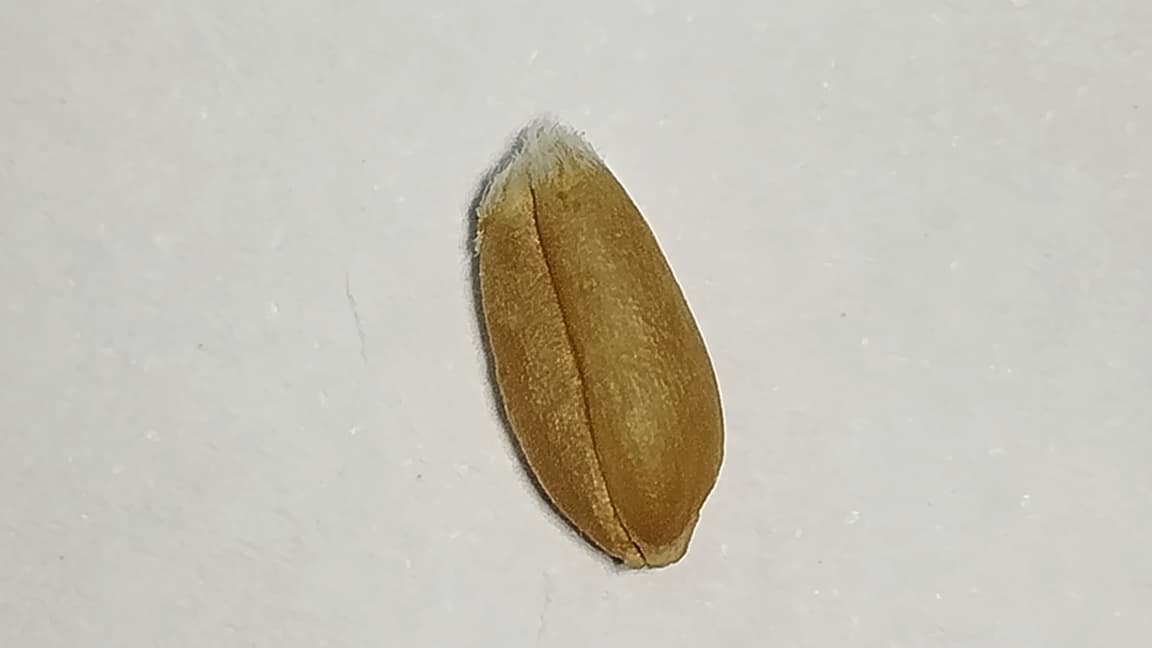healthy: (476, 122, 723, 566)
